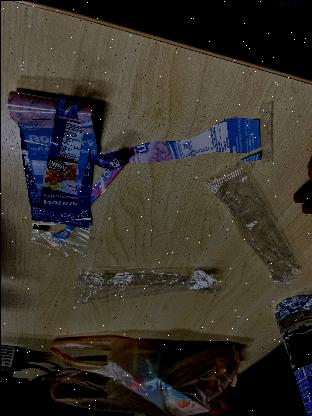Others: (0, 84, 122, 250), (206, 170, 306, 280), (68, 261, 232, 299)
